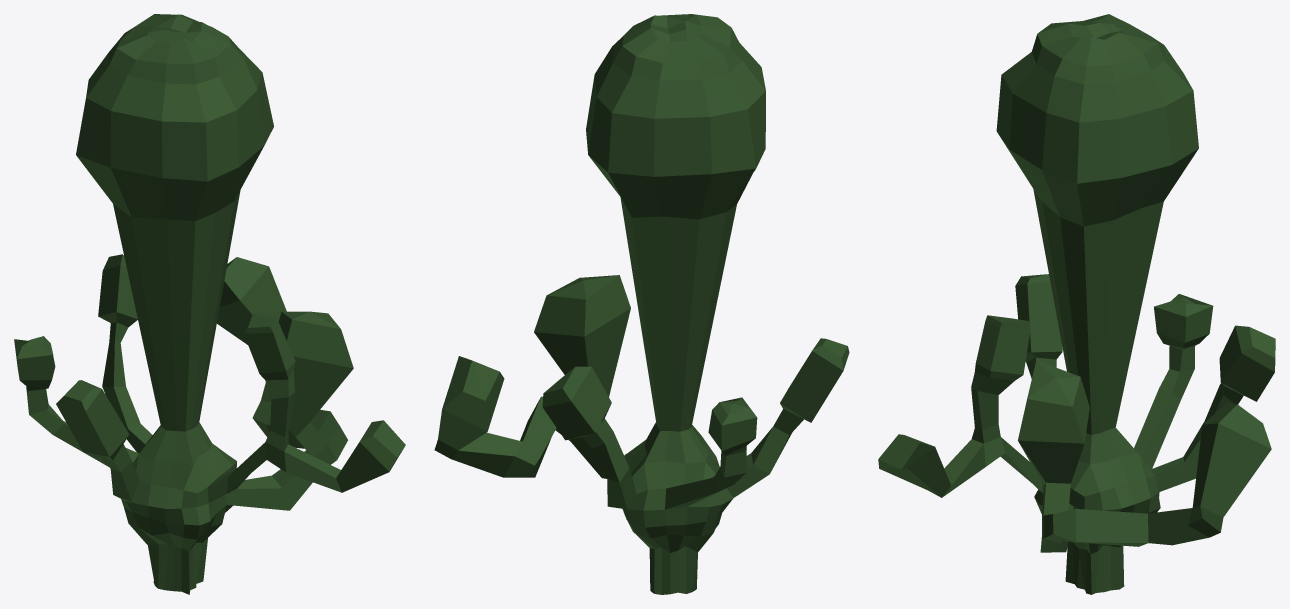
The model's file is S0.Cactus4.glb.
3 renders of one model, left to right at view 1: azimuth 30°, elevation 25°; view 2: azimuth 150°, elevation 25°; view 3: azimuth 270°, elevation 25°, orthographic.
Visible parts, largest first — view 1: Cube.007; view 2: Cube.007; view 3: Cube.007.
Part boxes in pixels (x1,y1,x2,y2): Cube.007: (14, 14, 405, 594); Cube.007: (434, 14, 849, 594); Cube.007: (878, 14, 1275, 594).
Size of the model in its own units: 5.81 by 9.67 by 6.26.
